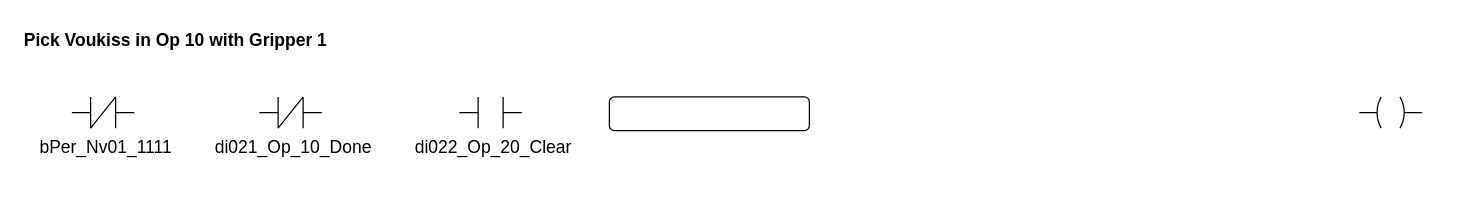
Image size: 1478x200. Some labels were removed from this diagram. Each missing label, with the centre of its shape:
bPer_Nv02_1111: (x=1390, y=112)
nPart_In_Tool[1] = 0: (x=708, y=113)
